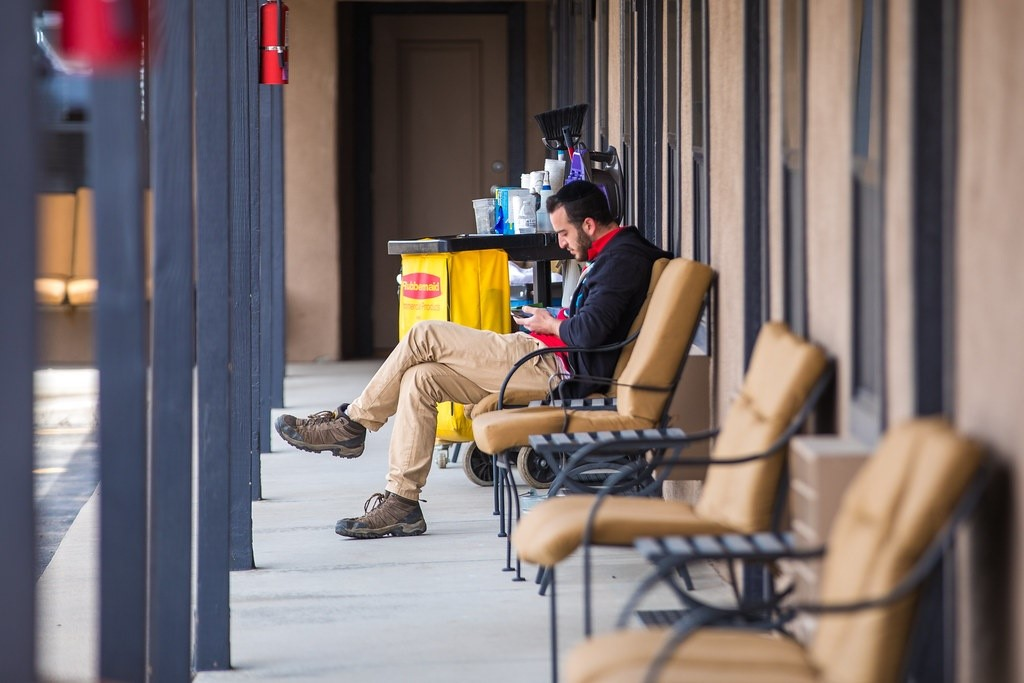face_no_mask: (547, 180, 613, 263)
